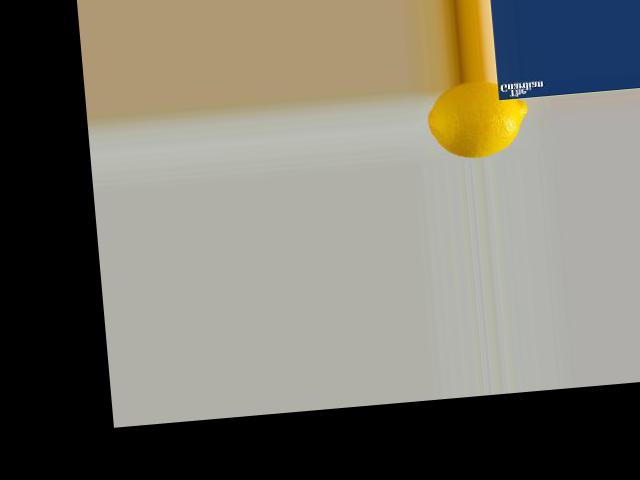lemon: (417, 77, 534, 162)
